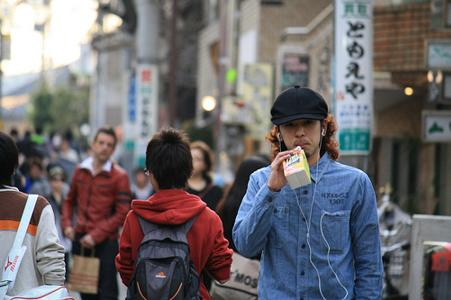person: (230, 86, 386, 300)
